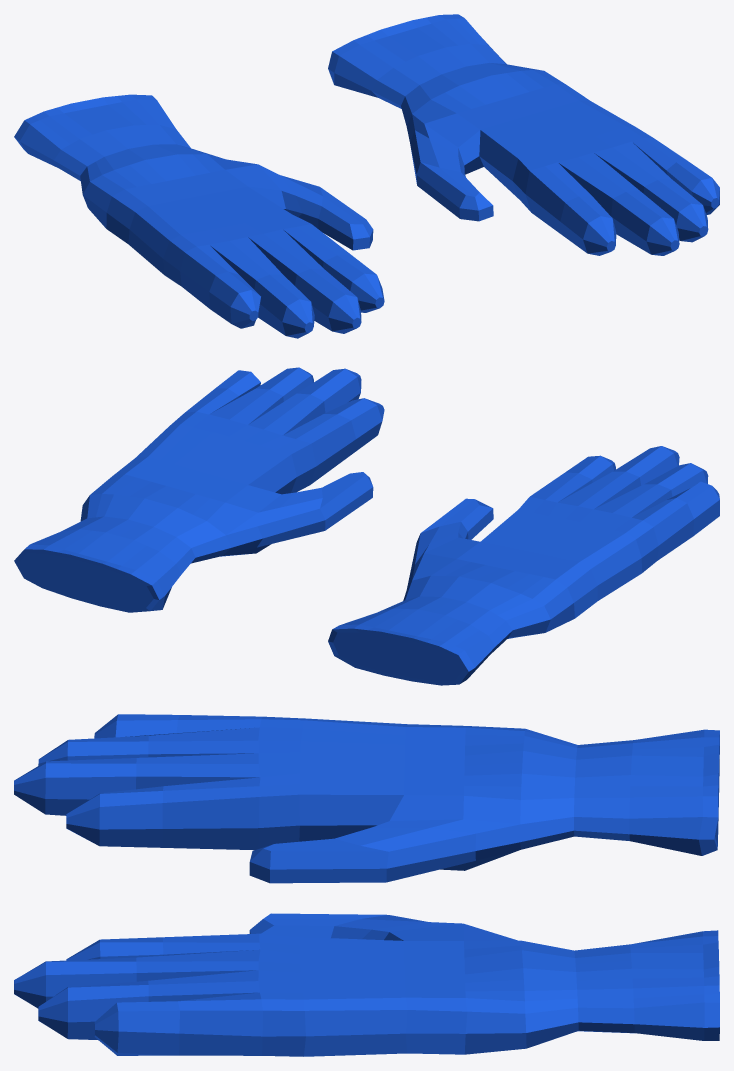
File: perchatku (2).fbx
The picture shows the model from 3 angles, top to bottom: view 1: azimuth 30°, elevation 25°; view 2: azimuth 150°, elevation 25°; view 3: azimuth 270°, elevation 25°; orthographic projection. The views are drawn at different scales.
Visible parts, largest first — view 1: Cube.002, Cube.001; view 2: Cube.002, Cube.001; view 3: Cube.001, Cube.002.
Part boxes in pixels (left/top/right/bottom): Cube.002: left=328, top=14, right=719, bottom=255; Cube.001: left=14, top=94, right=384, bottom=338; Cube.002: left=14, top=367, right=384, bottom=612; Cube.001: left=328, top=446, right=719, bottom=685; Cube.001: left=14, top=714, right=719, bottom=883; Cube.002: left=14, top=913, right=719, bottom=1056.
Size of the model in its own units: 1082 by 106 by 1051.
